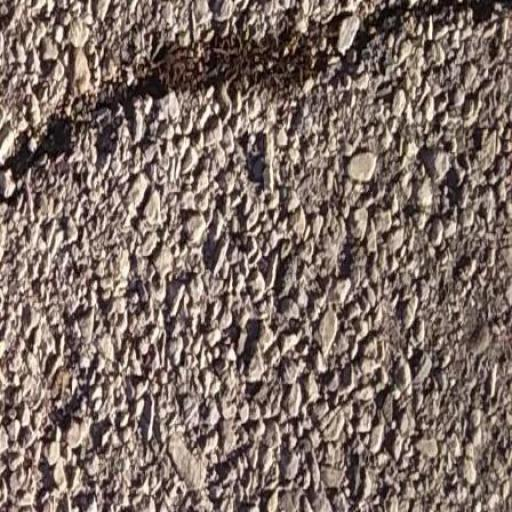spalling: (9, 3, 491, 201)
